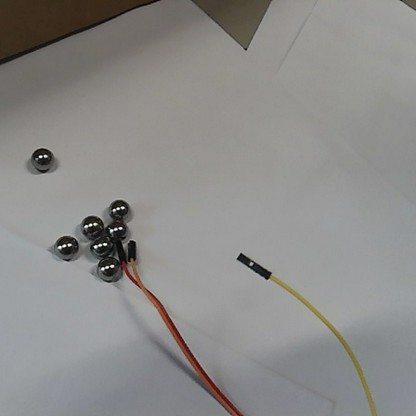ironball: (49, 232, 79, 262), (97, 254, 124, 285), (79, 211, 106, 241), (29, 146, 54, 172), (104, 219, 131, 242), (108, 196, 131, 219), (90, 236, 113, 258)
